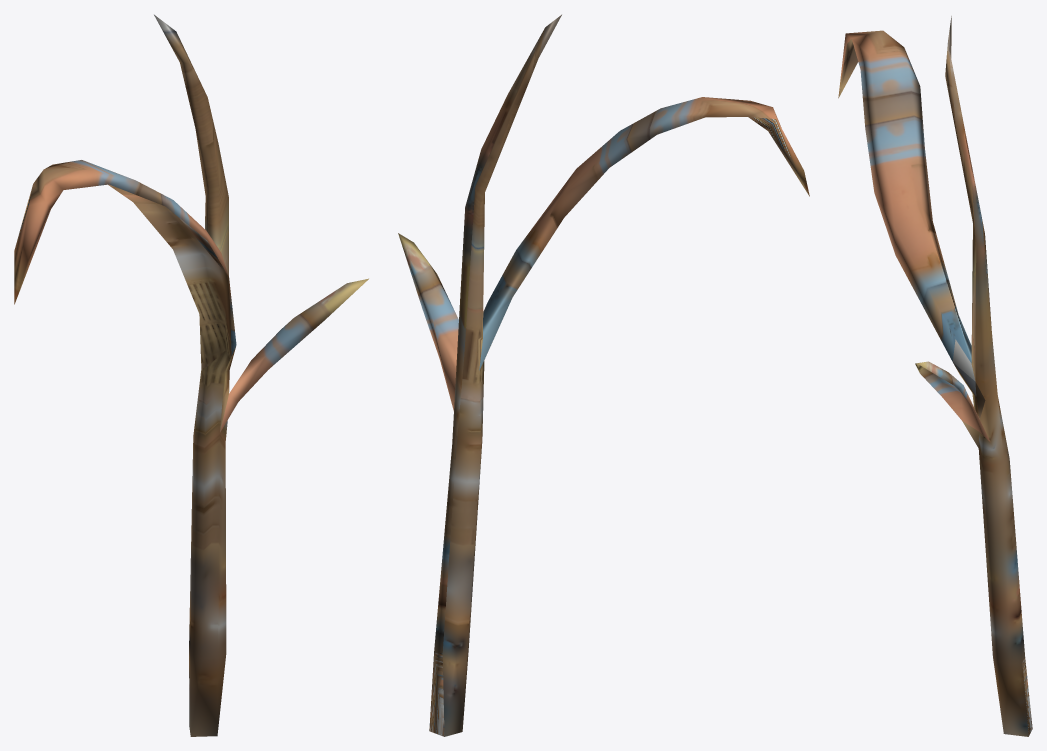
Rendered from Caña Flecha.fbx.
3 views of the same model, side by side, from view 1: azimuth 30°, elevation 25°; view 2: azimuth 150°, elevation 25°; view 3: azimuth 270°, elevation 25° (orthographic). The views are drawn at different scales.
Parts seen in each view (by area): view 1: mesh_rep_0_ori_repair_quad.001; view 2: mesh_rep_0_ori_repair_quad.001; view 3: mesh_rep_0_ori_repair_quad.001.
Part boxes in pixels (x1,y1,x2,y2): mesh_rep_0_ori_repair_quad.001: (14, 14, 368, 736); mesh_rep_0_ori_repair_quad.001: (398, 14, 809, 736); mesh_rep_0_ori_repair_quad.001: (838, 16, 1032, 736).
Size of the model in its own units: 21.29 by 39 by 10.11.
